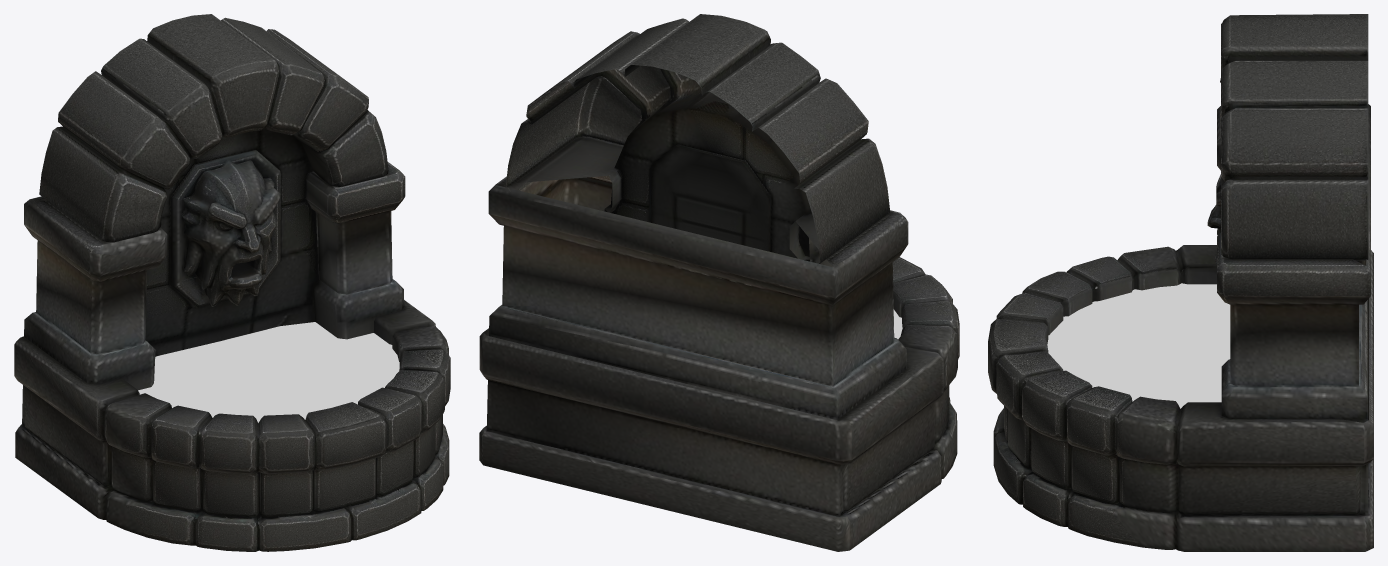
Rendered from Fountain_Wall.fbx.
The picture shows the model from 3 angles, left to right: view 1: azimuth 30°, elevation 25°; view 2: azimuth 150°, elevation 25°; view 3: azimuth 270°, elevation 25°; orthographic projection. The views are drawn at different scales.
Visible parts, largest first — view 1: Fountain_Wall; view 2: Fountain_Wall; view 3: Fountain_Wall.
Part boxes in pixels (x1,y1,x2,y2): Fountain_Wall: [14, 14, 450, 551]; Fountain_Wall: [479, 14, 959, 551]; Fountain_Wall: [988, 14, 1373, 551].
Bounding box in the file's own units: 178 × 200 × 161.
2 materials, 1 textured.
